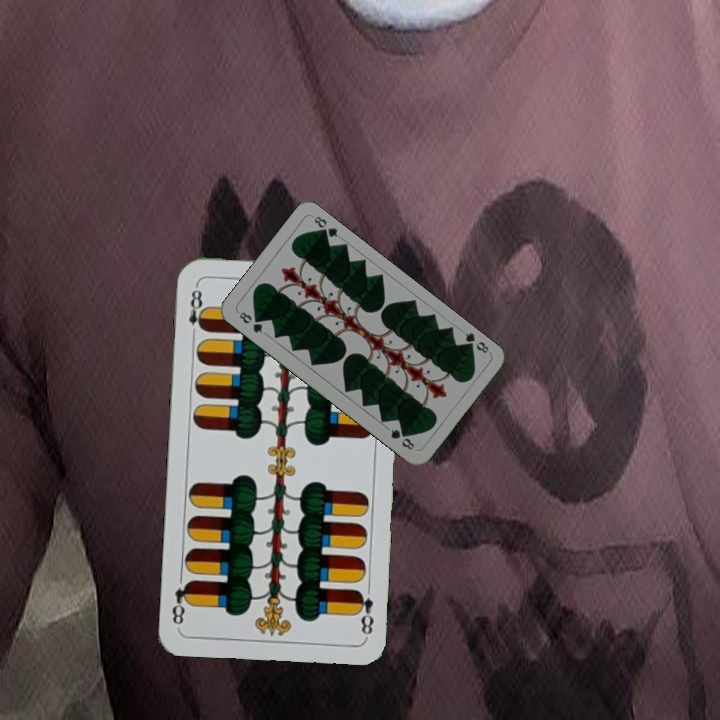E8: (184, 281, 208, 340), (352, 585, 377, 639)
G8: (459, 328, 492, 356), (235, 308, 265, 336)
